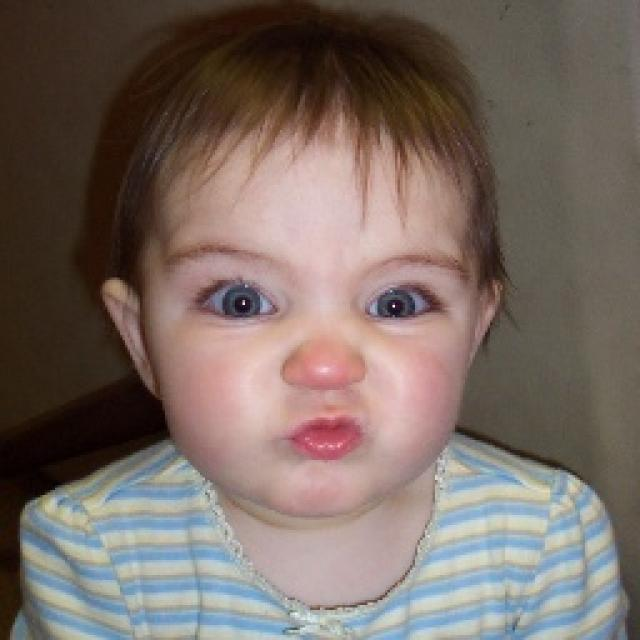earlobe: (138, 360, 161, 398)
eye: (199, 284, 280, 320), (362, 292, 438, 320)
nose: (282, 376, 365, 410)
wholeear: (100, 279, 161, 398), (471, 281, 501, 364)
